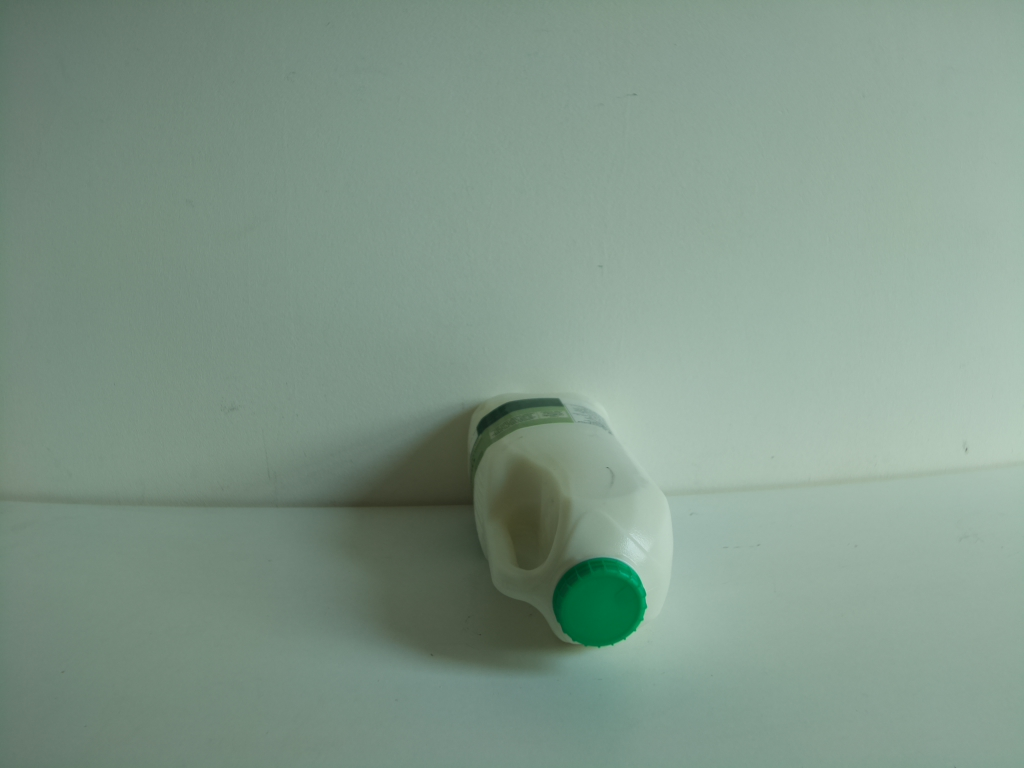milk: (461, 389, 677, 670)
